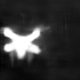plane: (1, 25, 42, 61)
